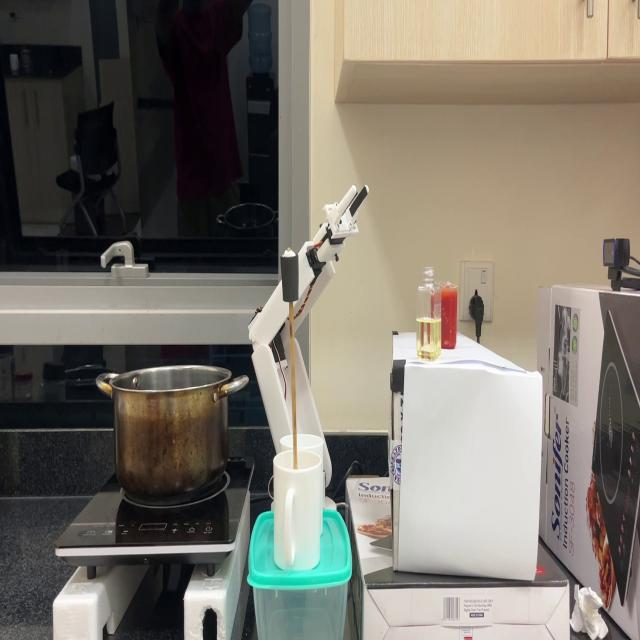blended_tomatoes_pepper: (435, 286, 458, 347)
cooking_pot: (95, 363, 250, 502)
oil: (415, 314, 441, 361)
spatula: (279, 245, 300, 470)
